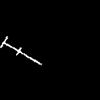double_crochet: (1, 37, 39, 63)
